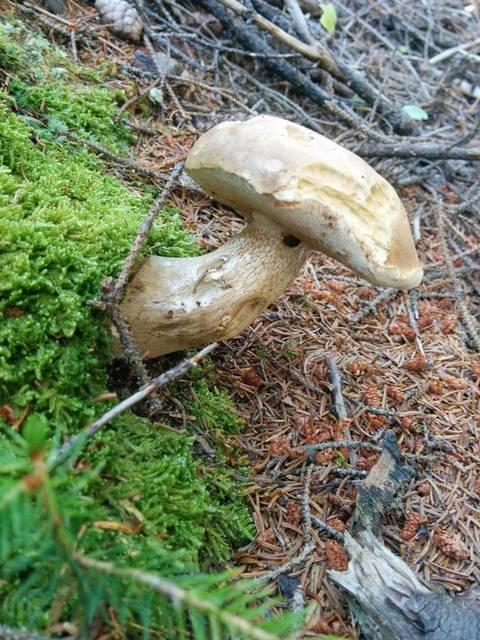poisonous_mushroom: (103, 112, 424, 363)
